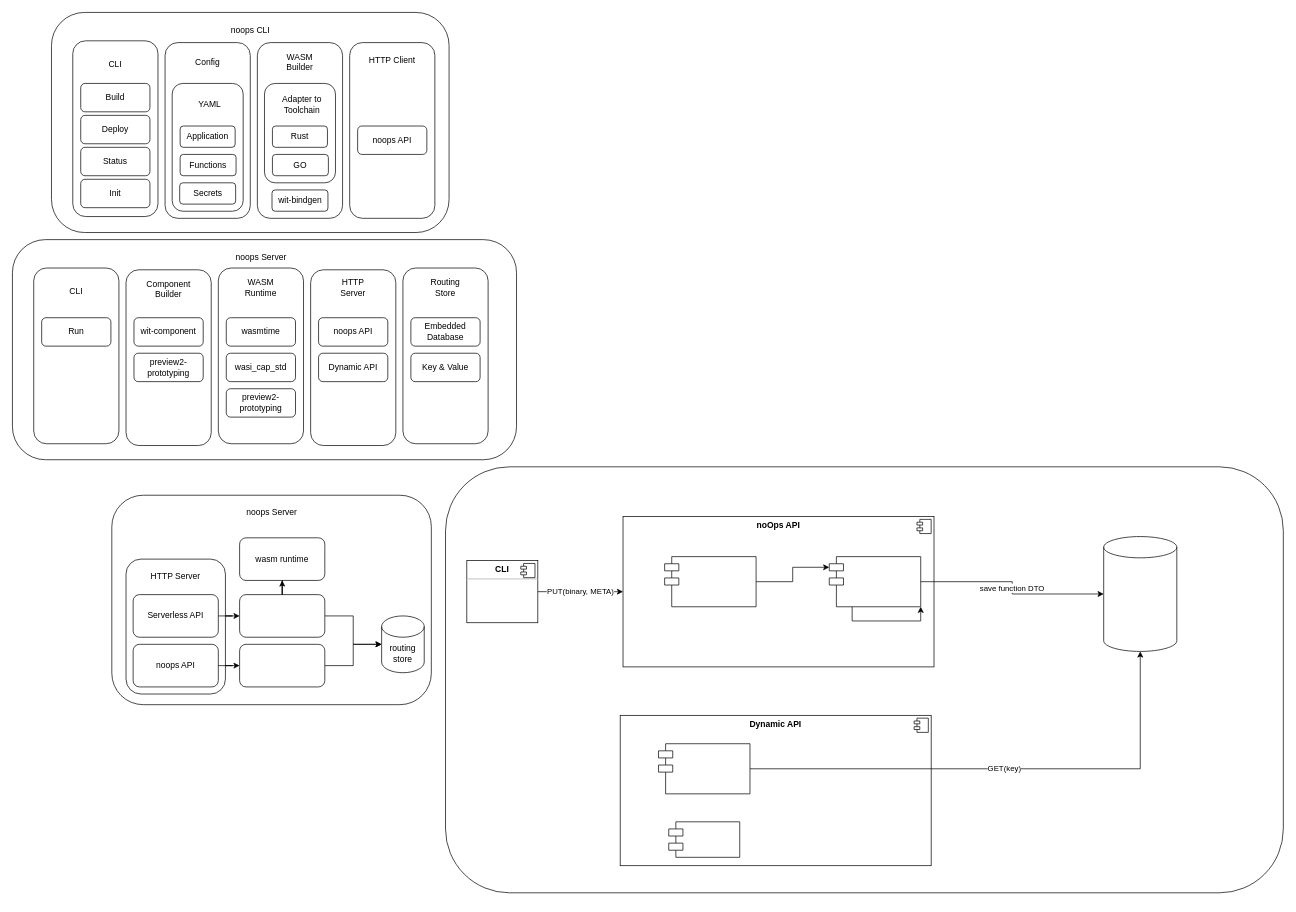
The diagram is 1296 pixels wide and 912 high, and some of its shapes have lost their labels. Here are the shapes that lost their labels. From the top down, the centre of each, then its label:
the point at 710,581: api
the point at 875,581: Handler
the point at 282,615: dynamic route handler
the point at 282,665: noops handler
the point at 704,768: invoke()
the point at 704,839: RUNTIME execute(key)
